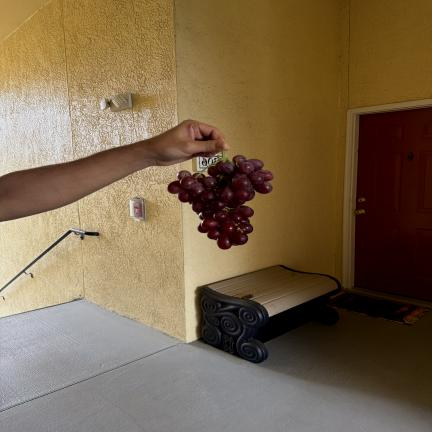grape_cluster: (167, 151, 274, 250)
